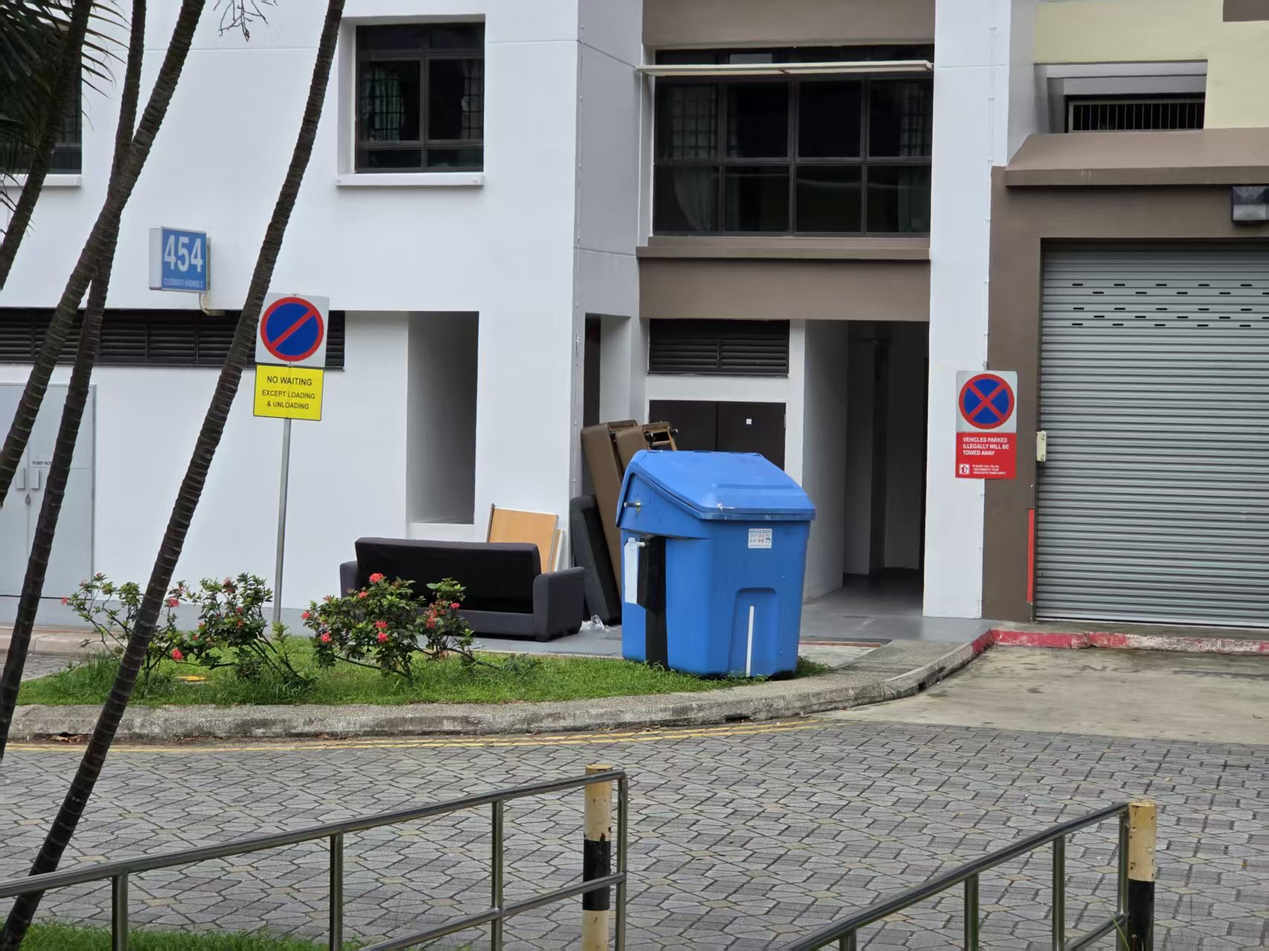bin_empty: (617, 451, 815, 676)
bulk_waste: (341, 538, 585, 641), (581, 419, 677, 578), (569, 495, 620, 624), (486, 506, 562, 571)
